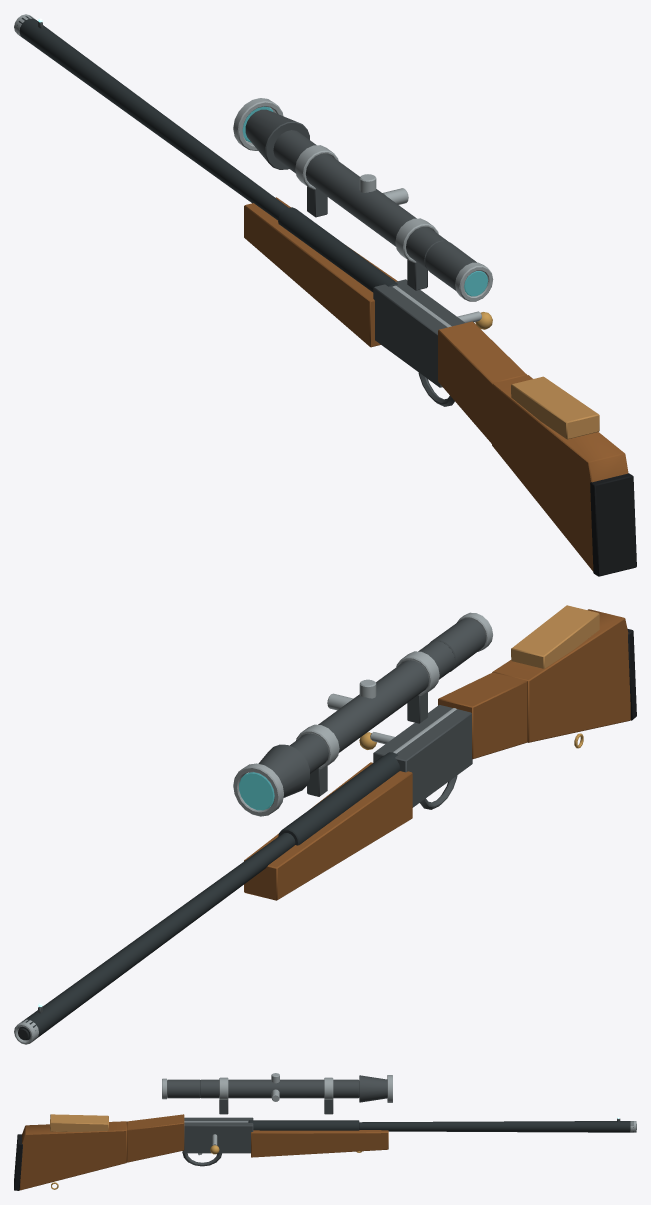
File: W_Carabine.glb
3 views of the same model, one above another, from view 1: azimuth 30°, elevation 25°; view 2: azimuth 150°, elevation 25°; view 3: azimuth 270°, elevation 25° (orthographic). The views are drawn at different scales.
Visible parts, largest first — view 1: W_Carabine; view 2: W_Carabine; view 3: W_Carabine.
Boxes of the visible parts, x1,y1,x2,y2 form: W_Carabine: (14, 14, 636, 576); W_Carabine: (14, 605, 636, 1044); W_Carabine: (14, 1073, 636, 1190).
Size of the model in its own units: 0.0951 by 0.2252 by 1.1.
